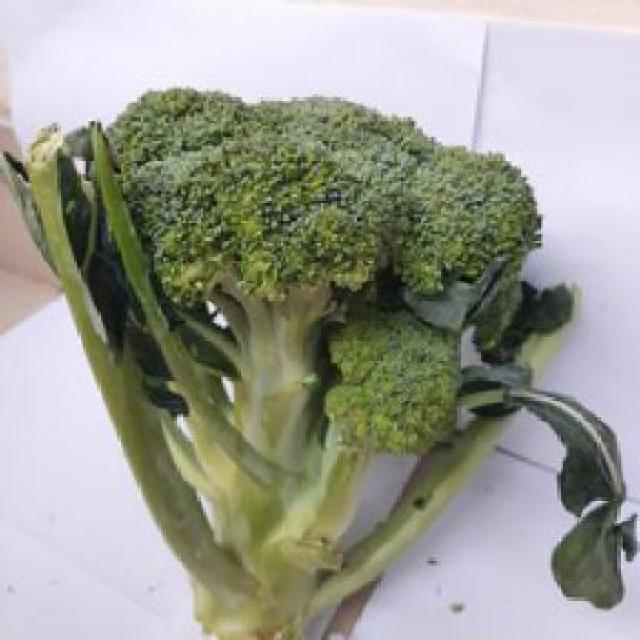broccoli: (45, 97, 538, 626)
